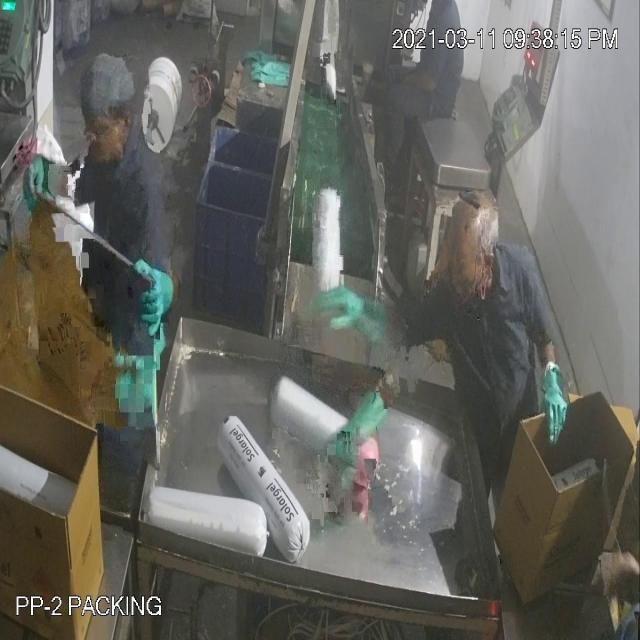Gloves: (41, 76, 554, 398)
